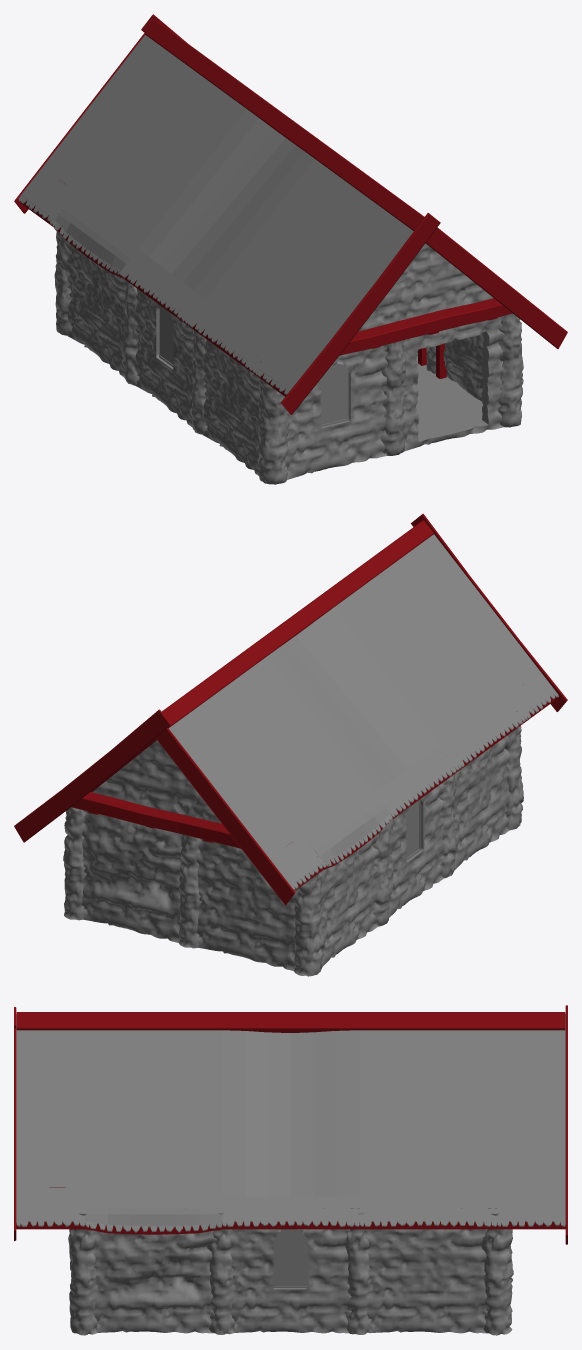
The model's file is SM_MH_01_House_07.fbx.
3 renders of one model, top to bottom at view 1: azimuth 30°, elevation 25°; view 2: azimuth 150°, elevation 25°; view 3: azimuth 270°, elevation 25°, orthographic. The views are drawn at different scales.
Parts seen in each view (by area): view 1: SM_MH_01_House_07_LOD0, SM_MH_01_House_07_Windows; view 2: SM_MH_01_House_07_LOD0, SM_MH_01_House_07_Windows; view 3: SM_MH_01_House_07_LOD0, SM_MH_01_House_07_Windows.
Part boxes in pixels (left/top/right/bottom): SM_MH_01_House_07_LOD0: left=14, top=14, right=567, bottom=484; SM_MH_01_House_07_Windows: left=160, top=306, right=347, bottom=424; SM_MH_01_House_07_LOD0: left=14, top=513, right=567, bottom=976; SM_MH_01_House_07_Windows: left=406, top=801, right=419, bottom=857; SM_MH_01_House_07_LOD0: left=14, top=1005, right=567, bottom=1335; SM_MH_01_House_07_Windows: left=274, top=1229, right=307, bottom=1285.
Size of what is drawn, in the model's own units: 747 by 644 by 1210.
